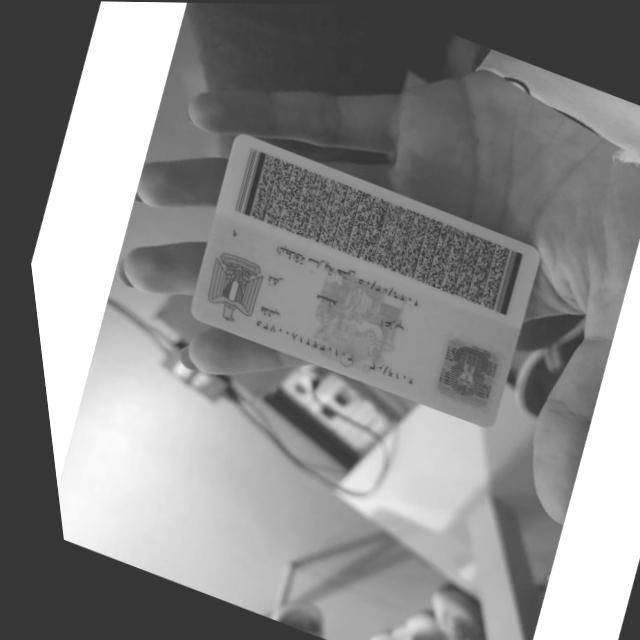back: (191, 135, 538, 426)
